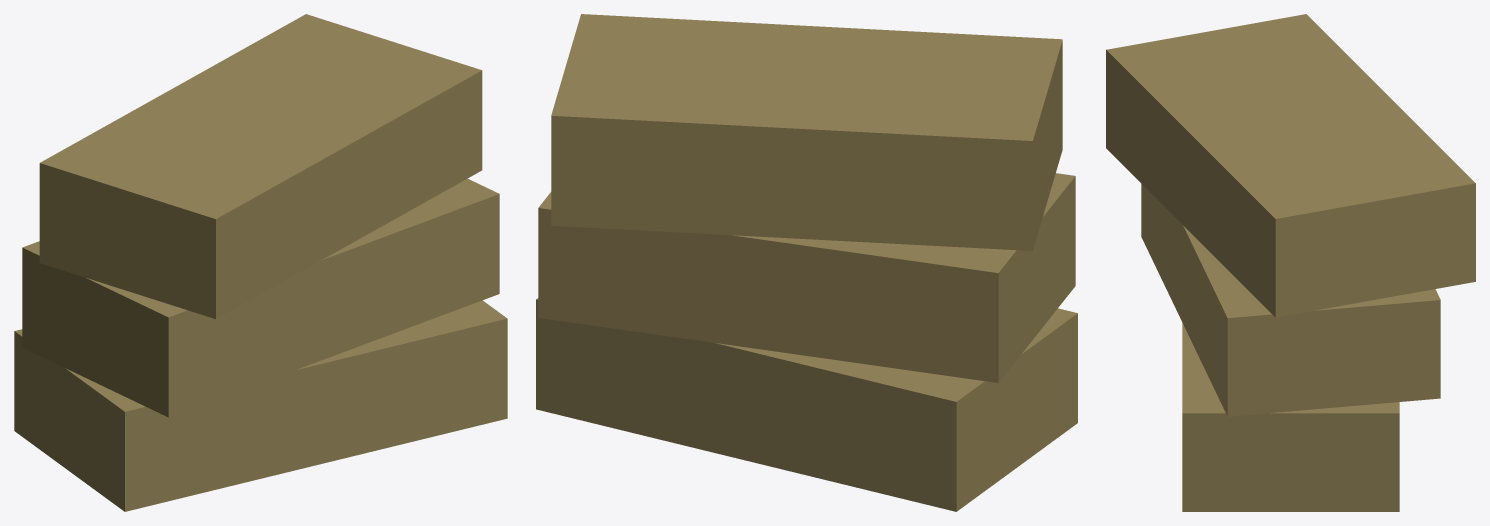
Rendered from droga.glb.
3 renders of one model, left to right at view 1: azimuth 30°, elevation 25°; view 2: azimuth 150°, elevation 25°; view 3: azimuth 270°, elevation 25°, orthographic. The views are drawn at different scales.
Visible parts, largest first — view 1: droga; view 2: droga; view 3: droga.
Boxes of the visible parts, box(x1,y1,x2,y2) form: droga: box(14, 14, 507, 511); droga: box(536, 14, 1077, 511); droga: box(1106, 14, 1475, 511).
Size of the model in its own units: 0.2232 by 0.154 by 0.17.
